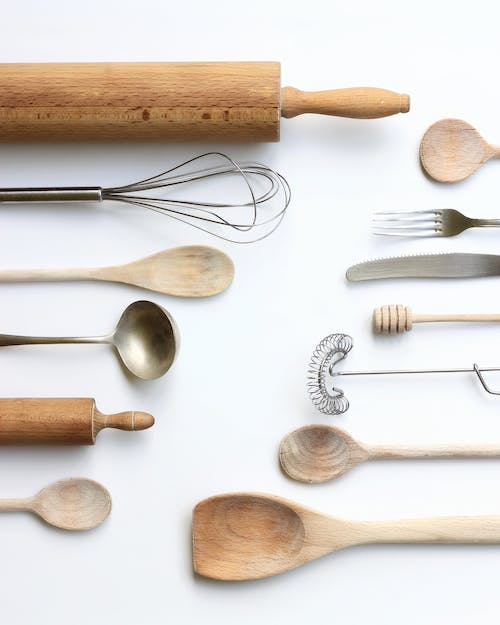knife: (340, 245, 500, 284)
